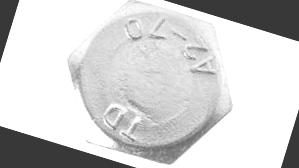screw: (43, 0, 255, 168)
